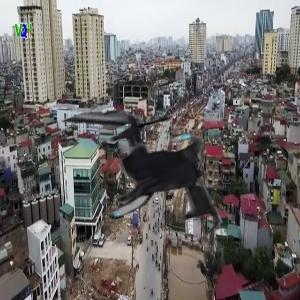drone: (75, 90, 242, 257)
